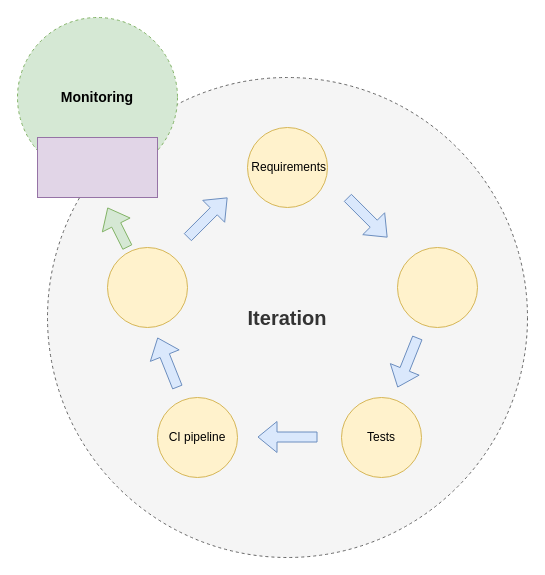
The diagram is 545 pixels wide and 575 high, and some of its shapes have lost their labels. The box of each missing label's shape, as (x1, y1, x2, y2) in pixels:
CD pipeline: (106, 246, 188, 328)
Implementation: (396, 246, 478, 328)
Production: (36, 136, 158, 198)
